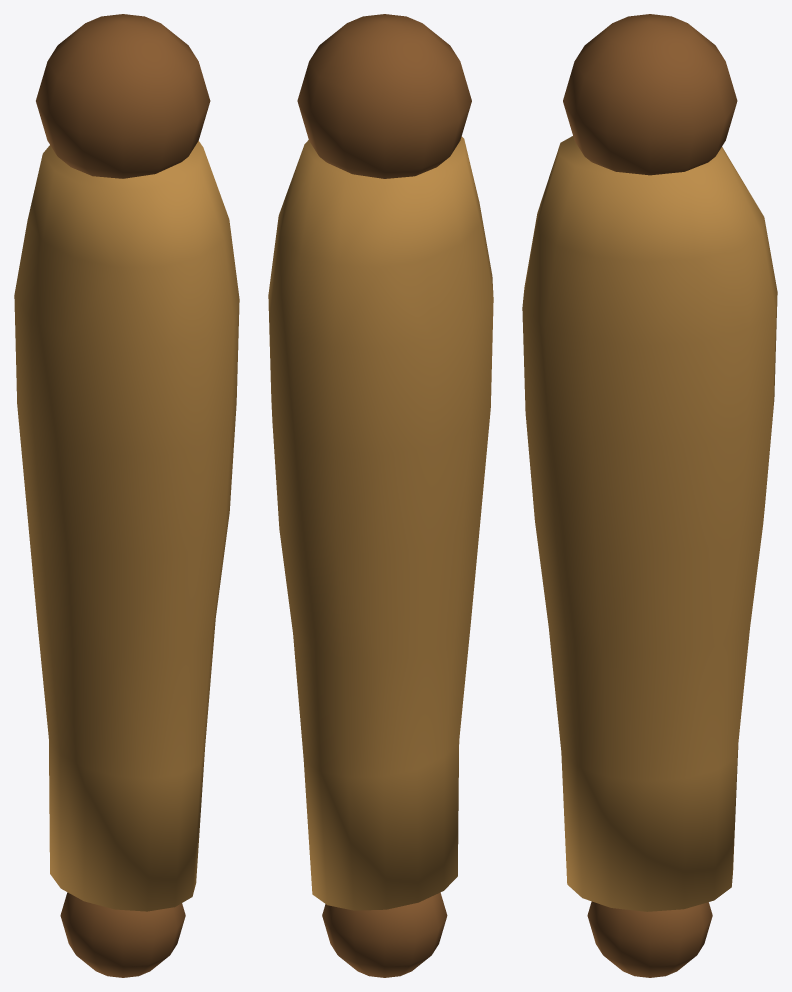
File: leg_l.dae
3 renders of one model, left to right at view 1: azimuth 30°, elevation 25°; view 2: azimuth 150°, elevation 25°; view 3: azimuth 270°, elevation 25°, orthographic.
Parts seen in each view (by area): view 1: Lower_Leg_L_Skin, Knee_L_Skin, Ankle_L_Skin; view 2: Lower_Leg_L_Skin, Knee_L_Skin, Ankle_L_Skin; view 3: Lower_Leg_L_Skin, Knee_L_Skin, Ankle_L_Skin.
Part boxes in pixels (x1,y1,x2,y2): Lower_Leg_L_Skin: (14,141,239,911); Knee_L_Skin: (36,14,210,178); Ankle_L_Skin: (60,892,185,977); Lower_Leg_L_Skin: (268,136,493,910); Knee_L_Skin: (297,14,471,178); Ankle_L_Skin: (322,892,447,977); Lower_Leg_L_Skin: (522,136,777,911); Knee_L_Skin: (563,14,737,175); Ankle_L_Skin: (587,901,712,977).
Size of the model in its own units: 3.9 by 4.6 by 18.91.
